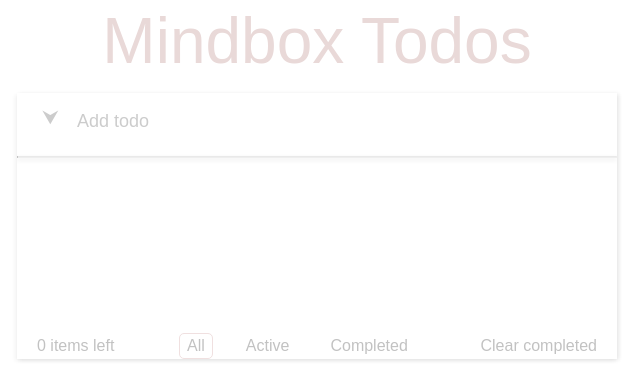
Test case: Card Component › должен очищать выполненные задачи
Type "Task to clear" into the field with placeholder "Add todo" at x=317, y=117, box 17,101 -> 617,133
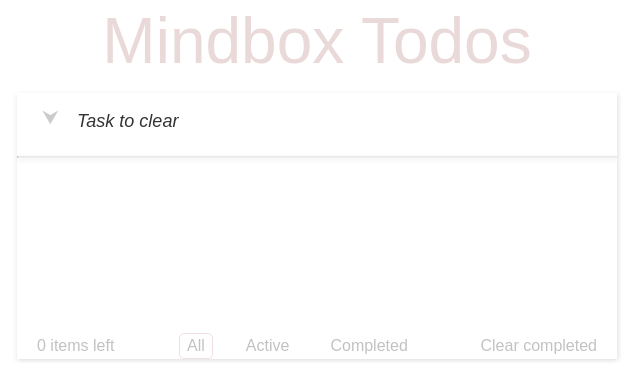
Submit the form with placeholder "Add todo", box 17,93 -> 617,141
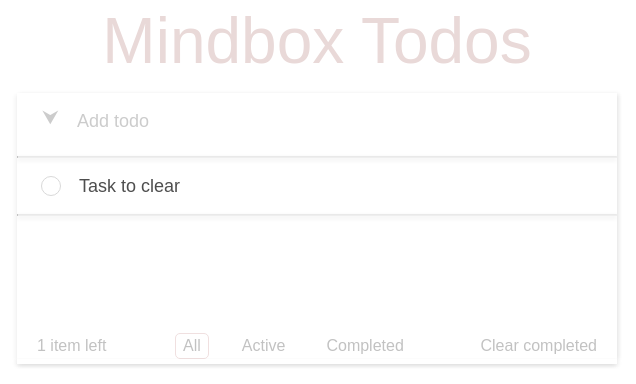
Click the checkbox at x=51, y=186, box 41,176 -> 61,196
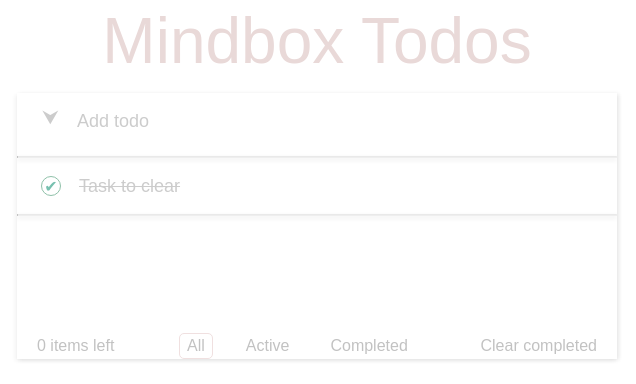
Click the text "Clear completed" at x=539, y=346, box 480,337 -> 597,355
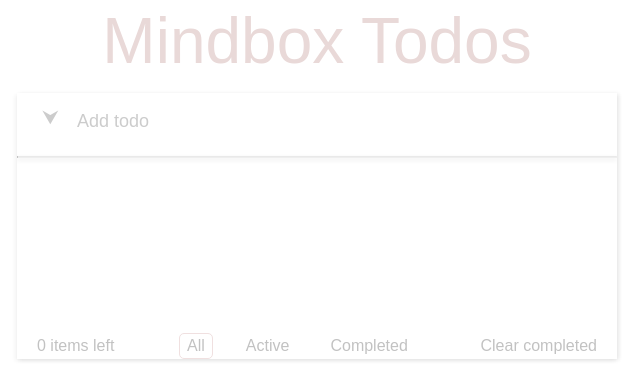
expect the text "Task to clear" is gone: met
